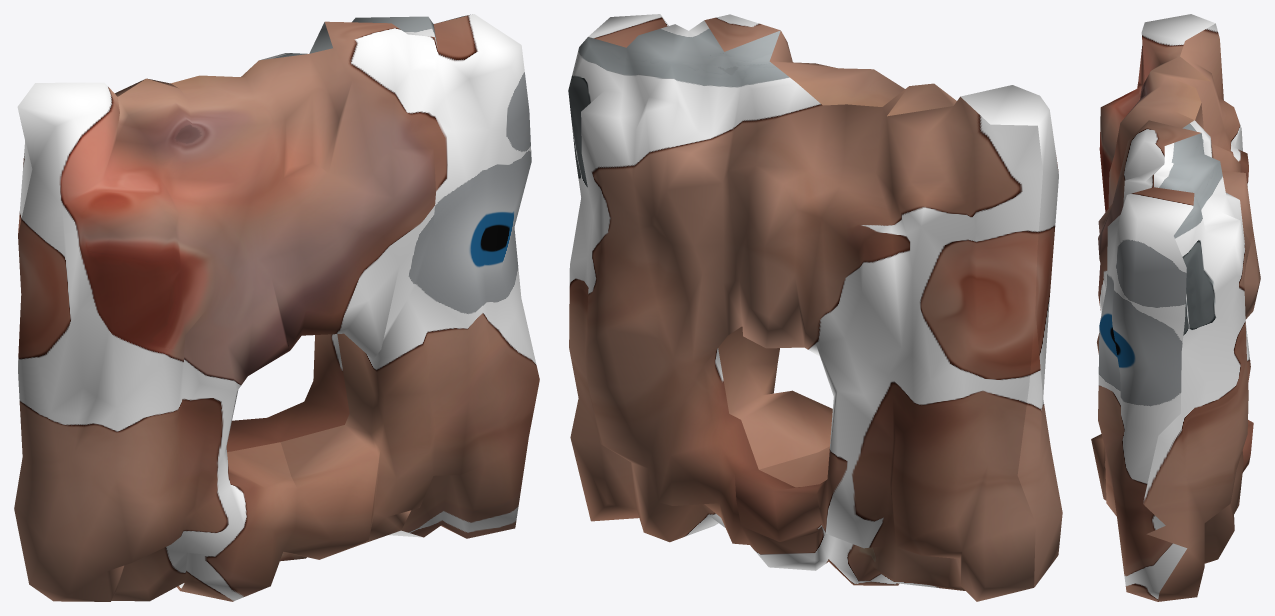
Rendered from caveWall2_colliderMeshes.fbx.
3 renders of one model, left to right at view 1: azimuth 30°, elevation 25°; view 2: azimuth 150°, elevation 25°; view 3: azimuth 270°, elevation 25°, orthographic. The views are drawn at different scales.
Visible parts, largest first — view 1: wallMesh_hole1_colliderMesh_B, wallMesh_hole1_colliderMesh_A; view 2: wallMesh_hole1_colliderMesh_A, wallMesh_hole1_colliderMesh_B; view 3: wallMesh_hole1_colliderMesh_B, wallMesh_hole1_colliderMesh_A.
Boxes of the visible parts, <box> form: wallMesh_hole1_colliderMesh_B: <box>14,14,539,601</box>; wallMesh_hole1_colliderMesh_A: <box>18,14,470,590</box>; wallMesh_hole1_colliderMesh_A: <box>568,20,1042,601</box>; wallMesh_hole1_colliderMesh_B: <box>588,14,1062,587</box>; wallMesh_hole1_colliderMesh_B: <box>1091,14,1215,601</box>; wallMesh_hole1_colliderMesh_A: <box>1143,23,1260,601</box>.
Size of the model in its own units: 2173 by 2215 by 818.
